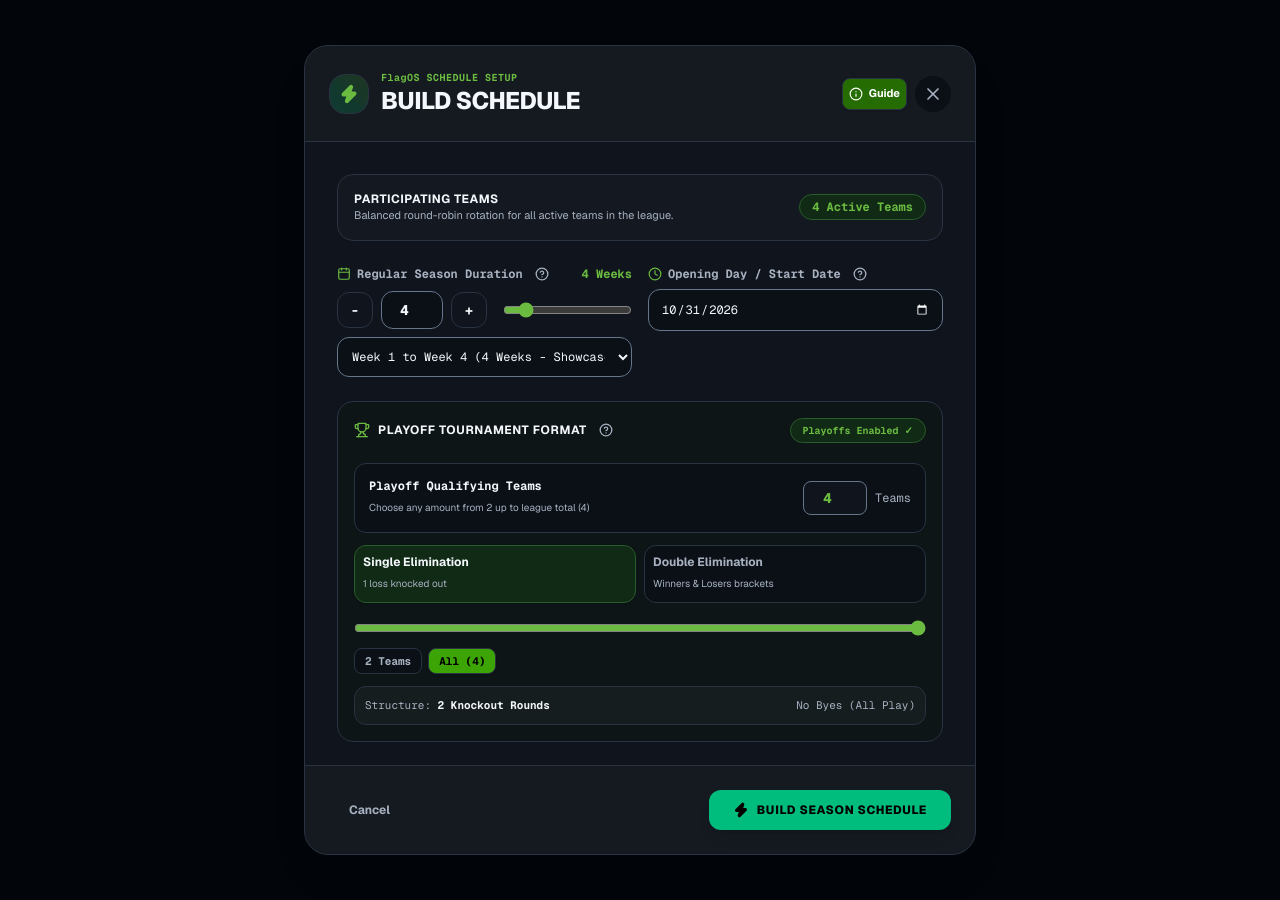
it: Schedule Modals Comprehensive Suite › AutomatedScheduleBuilderModal › does not apply a schedule when the Opening Day is cleared
Clear the date field at point(796, 310), box [648,288,943,330]
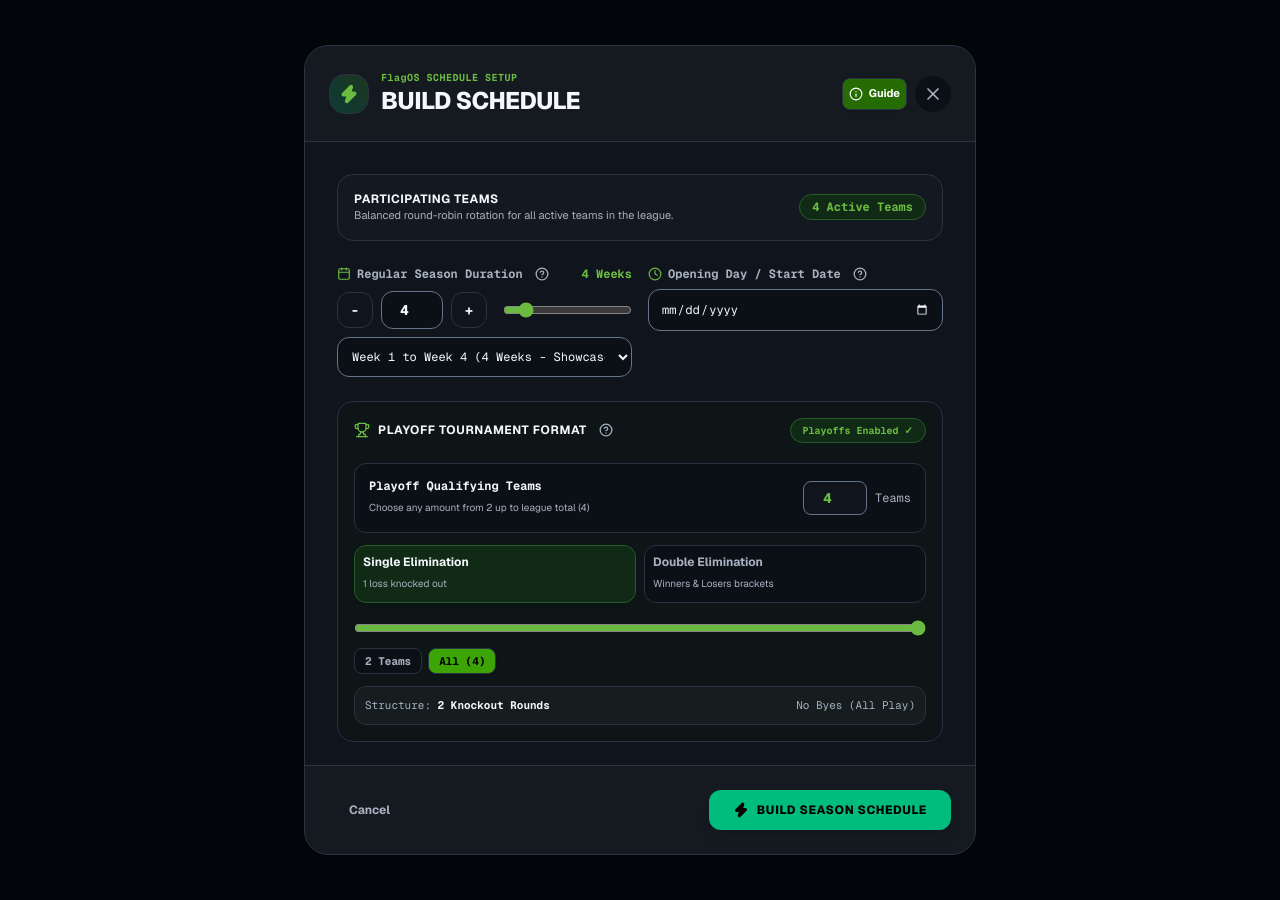
Click the button "Build Season Schedule" at point(830, 810), box [709,790,951,830]
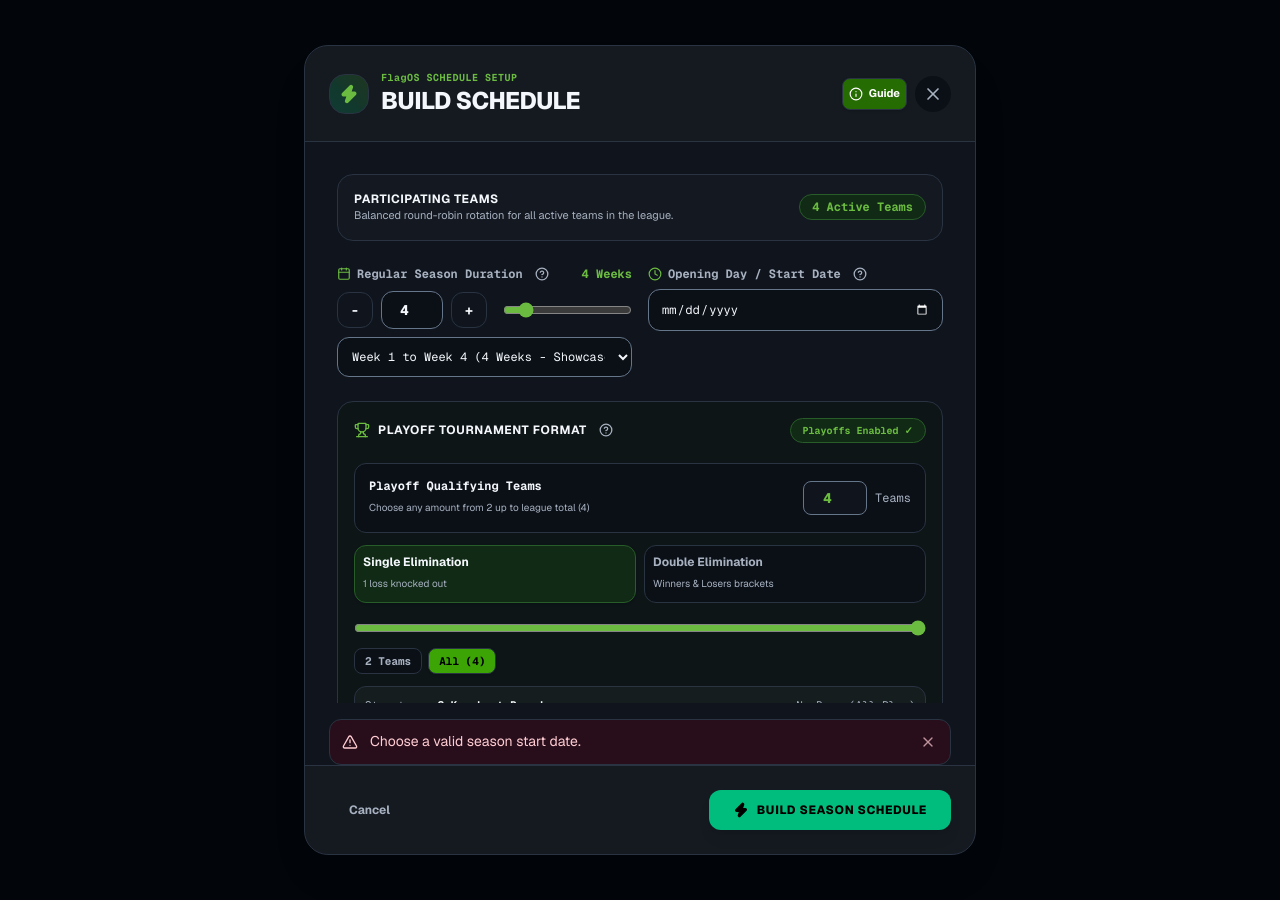
Result: the message reads "Choose a valid season start date." at [370,732,581,750]
